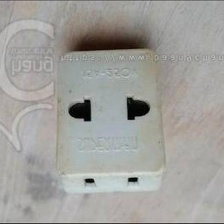three_eye_plug: (52, 44, 170, 197)
